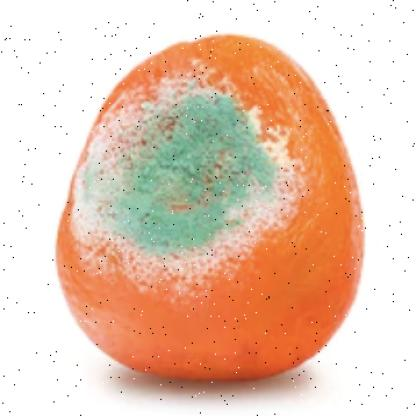rotten: (54, 35, 364, 384)
